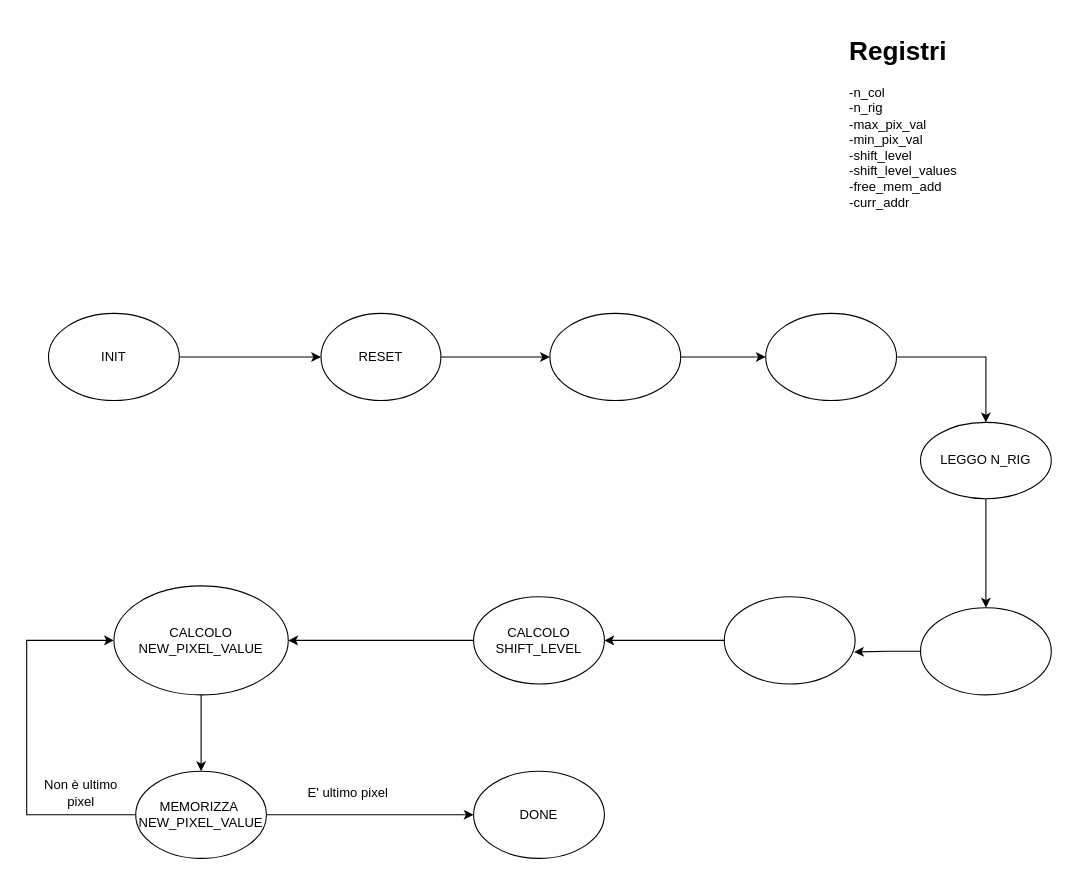
Image size: 1070x877. Some labels were removed from this diagram. Each missing label, with the centre of its shape:
"CALCOLO DELTA_VALUE" goes at [789,640].
"CALCOLO FREE_MEM_ADDR" goes at [985,651].
"LEGGO N_COL" goes at [831,356].
"START" goes at [615,356].
